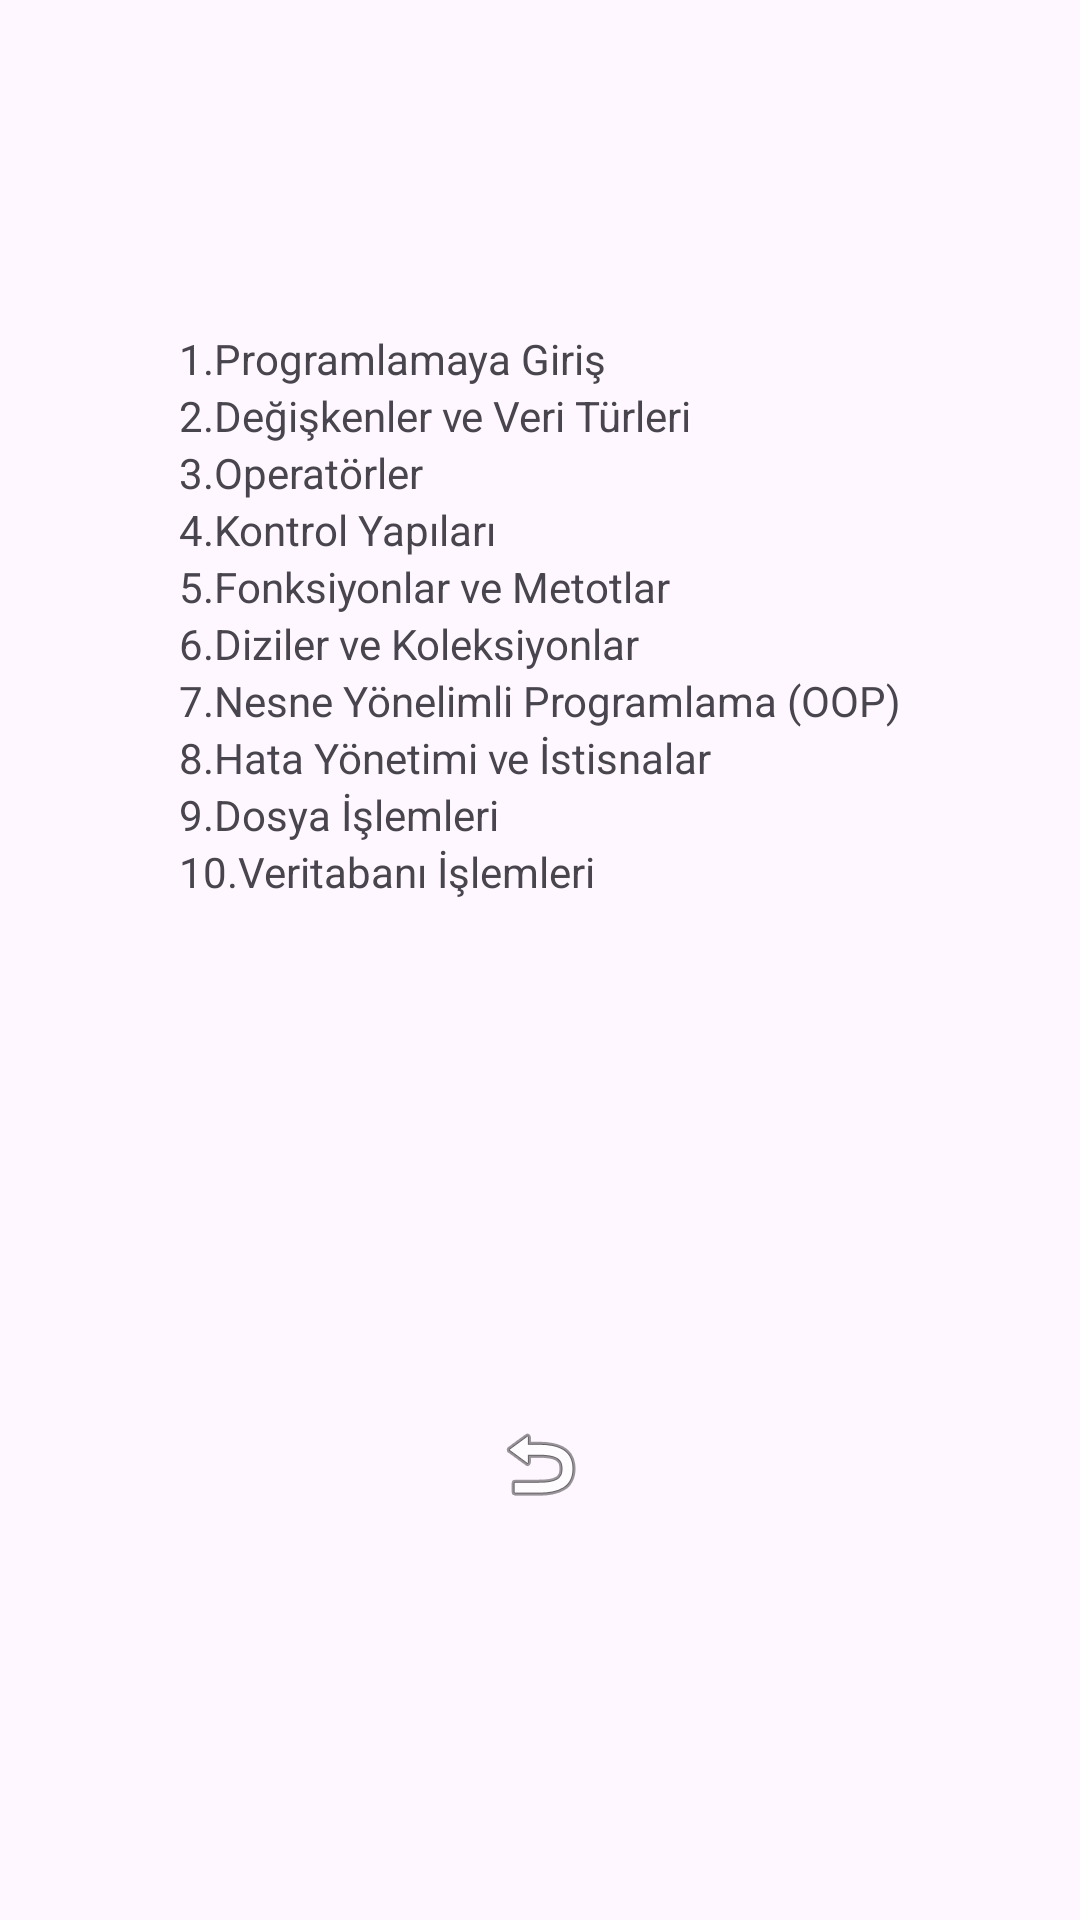

Locate icon controls on the screen. Image size 1080 × 1920, boxes as (x1, y1, x2, y2).
revert: (507, 1433, 576, 1496)
